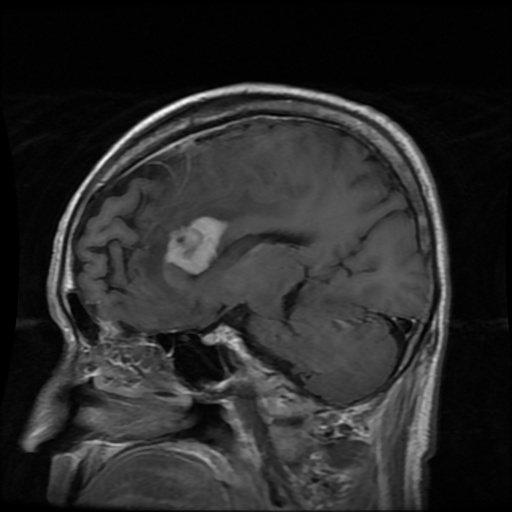glioma: (163, 216, 228, 273)
